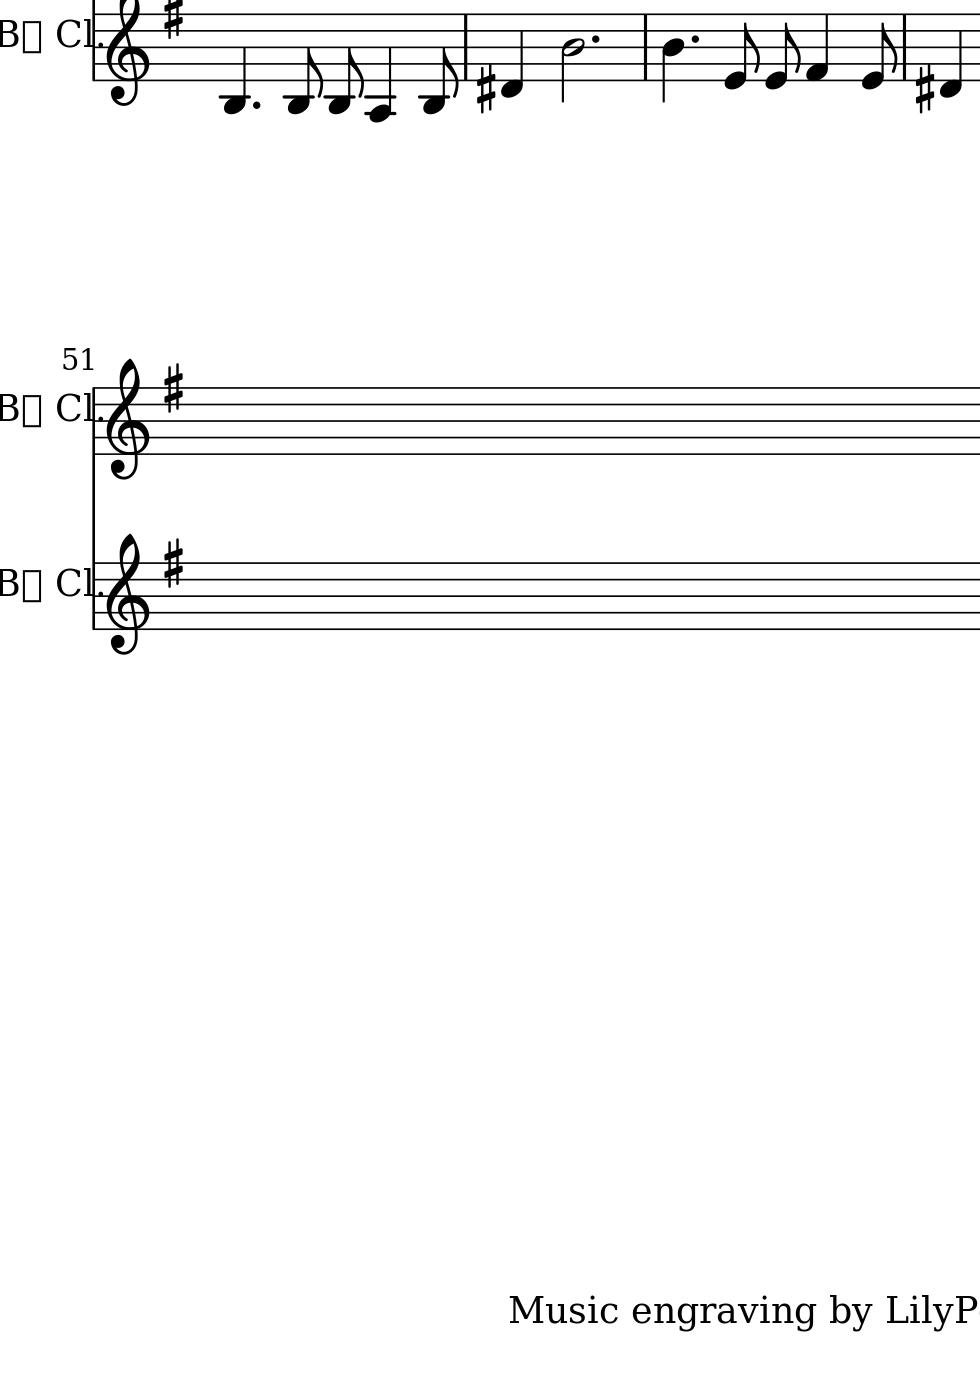1: (80, 346, 94, 374)
2_4: (559, 11, 585, 104)
4_-1: (937, 11, 963, 100), (498, 11, 524, 100)
4_-3: (218, 10, 249, 118)
4_1: (804, 12, 830, 83)
4_4: (659, 13, 684, 105)
5: (62, 345, 77, 373)
8_-3: (283, 12, 323, 116), (419, 12, 459, 115), (326, 13, 365, 116)
8_-4: (365, 11, 395, 122)
8_0: (722, 12, 760, 91), (859, 12, 897, 91), (765, 12, 801, 92)
Cl: (55, 390, 90, 425), (55, 15, 90, 49), (57, 563, 90, 598)
Gclef: (104, 532, 150, 656), (104, 357, 150, 480), (105, 1, 150, 107)
Sharp: (159, 361, 186, 417), (161, 536, 185, 589), (474, 63, 497, 115), (913, 63, 935, 115), (161, 1, 185, 41)
Single_barline: (88, 387, 104, 455), (637, 15, 653, 80), (458, 15, 473, 80), (897, 15, 912, 80), (88, 10, 101, 83), (89, 563, 101, 630)
dot: (588, 32, 601, 46), (688, 32, 701, 46)
